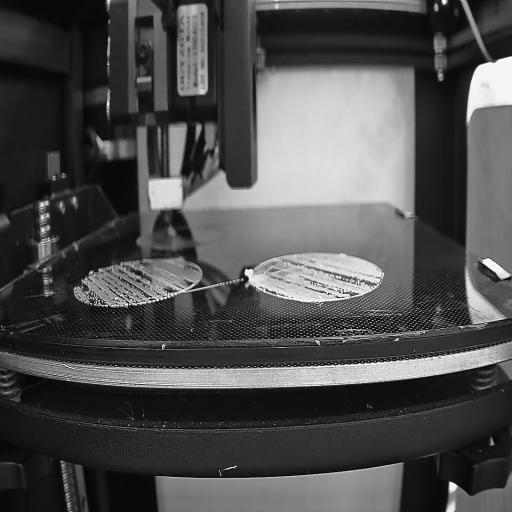under_extrusion: (258, 256, 383, 300), (78, 260, 155, 306), (162, 263, 203, 291)
